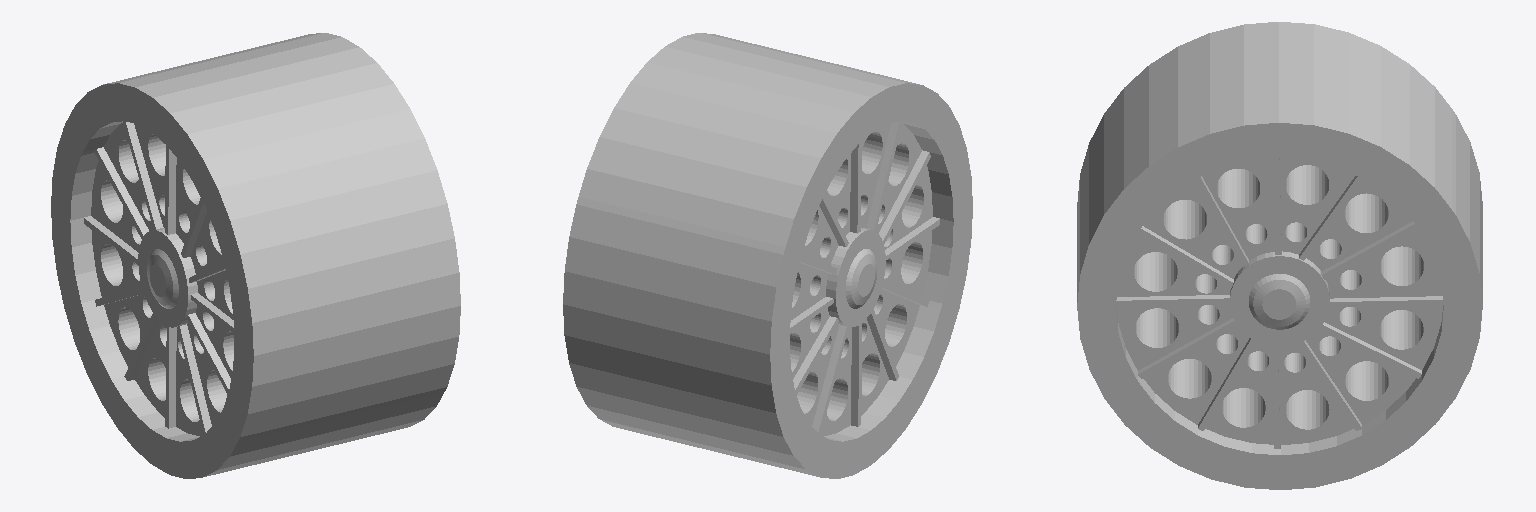
The model's file is koloLv2.obj.
3 views of the same model, side by side, from view 1: azimuth 30°, elevation 25°; view 2: azimuth 150°, elevation 25°; view 3: azimuth 270°, elevation 25° (orthographic).
Visible parts, largest first — view 1: koła_duże.003_Cylinder.003; view 2: koła_duże.003_Cylinder.003; view 3: koła_duże.003_Cylinder.003.
Part boxes in pixels (x1,y1,x2,y2): koła_duże.003_Cylinder.003: (51,33,460,478); koła_duże.003_Cylinder.003: (563,33,972,478); koła_duże.003_Cylinder.003: (1077,22,1482,489).
Bounding box in the file's own units: 0.5795 × 0.9827 × 0.9827.